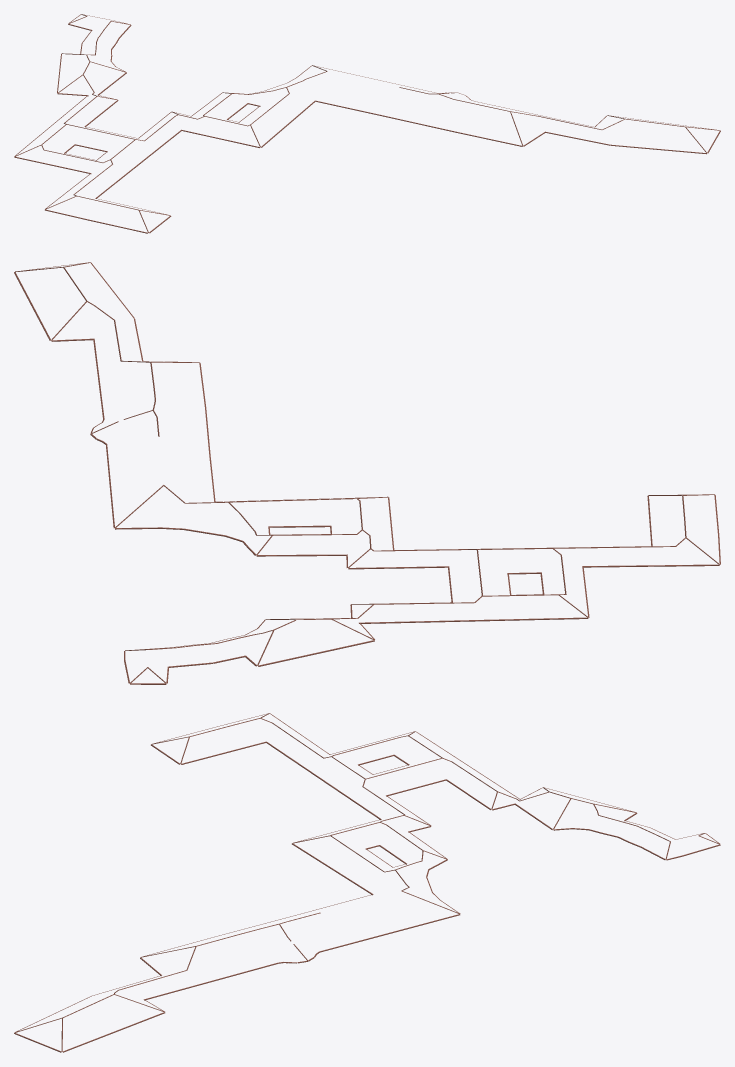
The picture shows the model from 3 angles, top to bottom: view 1: azimuth 30°, elevation 25°; view 2: azimuth 150°, elevation 25°; view 3: azimuth 270°, elevation 25°; orthographic projection. The views are drawn at different scales.
Parts seen in each view (by area): view 1: detail; view 2: detail; view 3: detail.
Boxes of the visible parts, left/top/right/bottom form: detail: left=14, top=14, right=720, bottom=233; detail: left=14, top=262, right=720, bottom=684; detail: left=14, top=713, right=720, bottom=1052.
Size of the model in its own units: 218 by 5.95 by 192.
